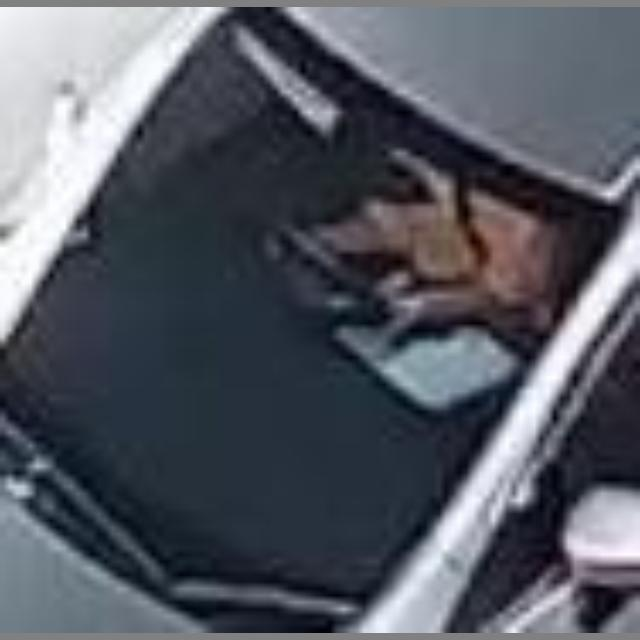pakai: (286, 123, 551, 402)
